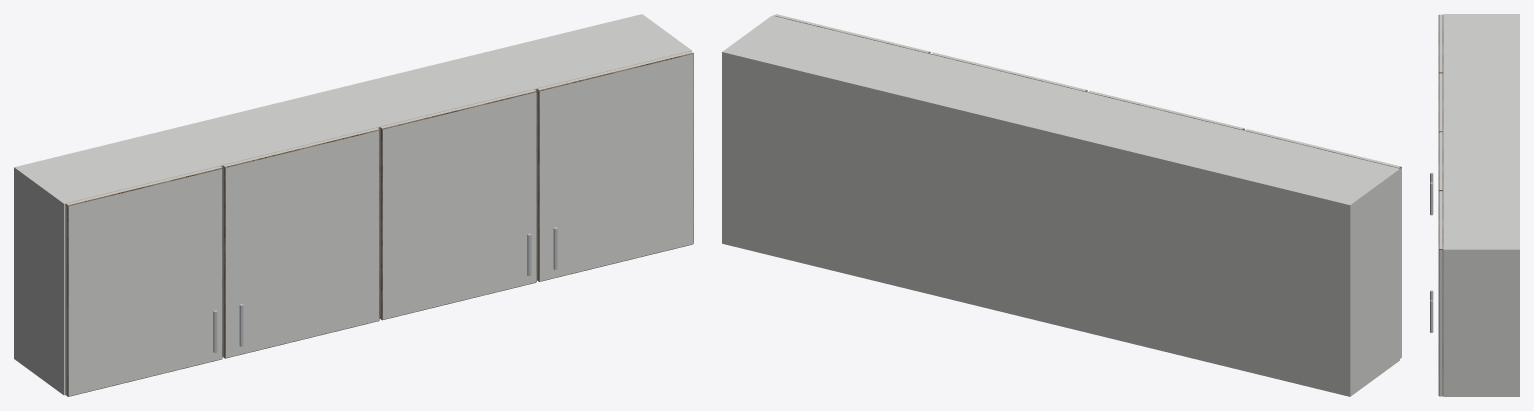
File: kitchen_wall_units.glb
3 views of the same model, side by side, from view 1: azimuth 30°, elevation 25°; view 2: azimuth 150°, elevation 25°; view 3: azimuth 270°, elevation 25° (orthographic). The views are drawn at different scales.
Parts seen in each view (by area): view 1: kitchen_wall_units; view 2: kitchen_wall_units; view 3: kitchen_wall_units.
Part boxes in pixels (bbox=[...]): kitchen_wall_units: bbox=[14, 14, 693, 396]; kitchen_wall_units: bbox=[722, 14, 1401, 396]; kitchen_wall_units: bbox=[1430, 14, 1519, 396].
Size of the model in its own units: 2.4 by 0.7 by 0.387.
Materials: 3 (1 with a texture image).
